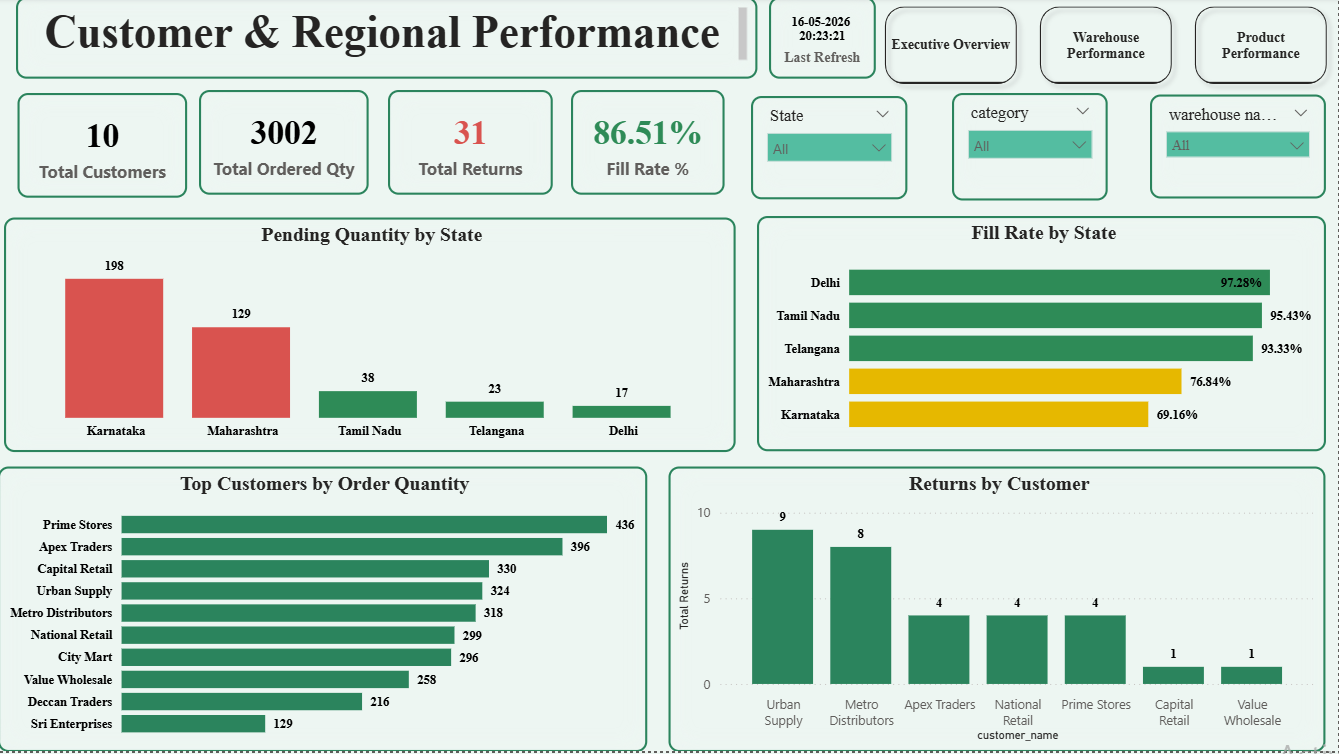

The page's visual inventory and layout, read from the dashboard file:
{"tool":"powerbi","page":{"name":"Customer & Regional Analysis","canvas":[1280,720],"ordinal":4},"visuals":[{"type":"card","fields":{"Values":["Date_Table.Total Customers"]},"box":[19.1,92.3,162.2,100.2],"z":0},{"type":"card","fields":{"Values":["fact_order_fulfillment.Total Ordered Qty"]},"box":[192.5,89.1,162.2,100.2],"z":1000},{"type":"card","fields":{"Values":["fact_order_fulfillment.Total Returns"]},"box":[372.2,89.1,157.5,100.2],"z":2000},{"type":"card","fields":{"Values":["fact_order_fulfillment.Fill Rate %"]},"box":[547.2,89.1,146.3,100.2],"z":3000},{"type":"clusteredBarChart","title":"Top Customers by Order Quantity","fields":{"Y":["fact_order_fulfillment.Total Ordered Qty"],"Category":["Query1.customer_name"]},"box":[0,448.1,619.7,272.7],"z":4000},{"type":"clusteredBarChart","title":"Fill Rate by State","fields":{"Y":["fact_order_fulfillment.Fill Rate %"],"Category":["Query1.state"]},"box":[724.5,209.7,543.4,225],"z":5000},{"type":"slicer","fields":{"Values":["Query1.state"]},"box":[719,93.8,149.5,98.6],"z":6000},{"type":"slicer","fields":{"Values":["Query1.category"]},"box":[911.4,91.5,148.7,103],"z":7000},{"type":"slicer","fields":{"Values":["Query1.warehouse_name"]},"box":[1100.1,93.4,167.8,99.1],"z":8000},{"type":"textbox","box":[17.5,0,707.8,77.9],"z":9000},{"type":"card","fields":{"Values":["Date_Table.Last Refresh"]},"box":[736.5,0,101.8,77.9],"z":10000},{"type":"clusteredColumnChart","title":"Pending Quantity by State","fields":{"Category":["Query1.state"],"Y":["Query1.Pending Qty"]},"box":[6.4,210,698.3,224.3],"z":11000},{"type":"clusteredColumnChart","title":"Returns by Customer","fields":{"Y":["fact_order_fulfillment.Total Returns"],"Category":["Query1.customer_name"]},"box":[640.6,448.1,627.3,272.7],"z":12000},{"type":"pageNavigator","box":[838.3,0,442.2,92.3],"z":13000}]}

Visuals, with their boxes in screenshot pixels (x1, y1, x2, y2), scaled from the page's 1280x720 canvas onto the 1339x754 screenshot:
card - Date_Table.Total Customers: [20,97,190,202]
card - fact_order_fulfillment.Total Ordered Qty: [201,93,371,198]
card - fact_order_fulfillment.Total Returns: [389,93,554,198]
card - fact_order_fulfillment.Fill Rate %: [572,93,725,198]
"Top Customers by Order Quantity" clusteredBarChart: [0,469,648,753]
"Fill Rate by State" clusteredBarChart: [758,220,1326,455]
slicer - Query1.state: [752,98,909,201]
slicer - Query1.category: [953,96,1109,204]
slicer - Query1.warehouse_name: [1151,98,1326,202]
textbox: [18,0,759,82]
card - Date_Table.Last Refresh: [770,0,877,82]
"Pending Quantity by State" clusteredColumnChart: [7,220,737,455]
"Returns by Customer" clusteredColumnChart: [670,469,1326,753]
pageNavigator: [877,0,1338,97]
